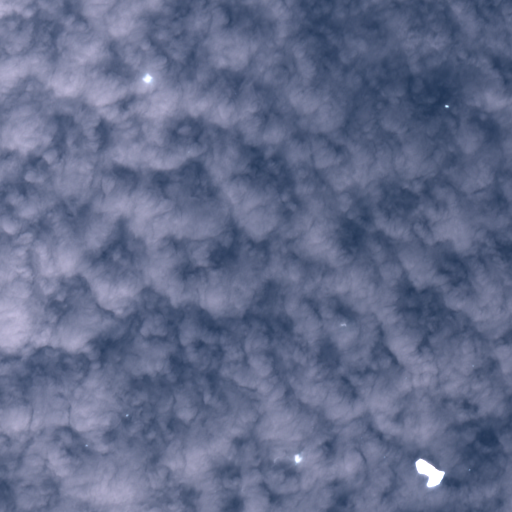Iceberg: (415, 458, 444, 487), (143, 73, 152, 82), (294, 454, 301, 464), (340, 323, 345, 326), (444, 104, 448, 107), (126, 414, 128, 416), (85, 444, 87, 446), (468, 469, 470, 470), (472, 365, 473, 366)
